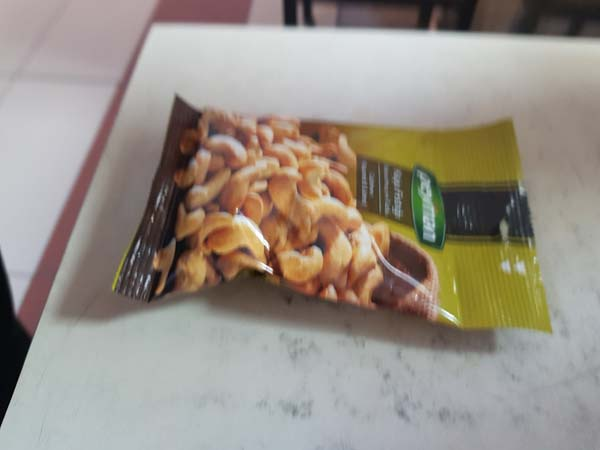kajupeyman: (106, 84, 560, 338)
